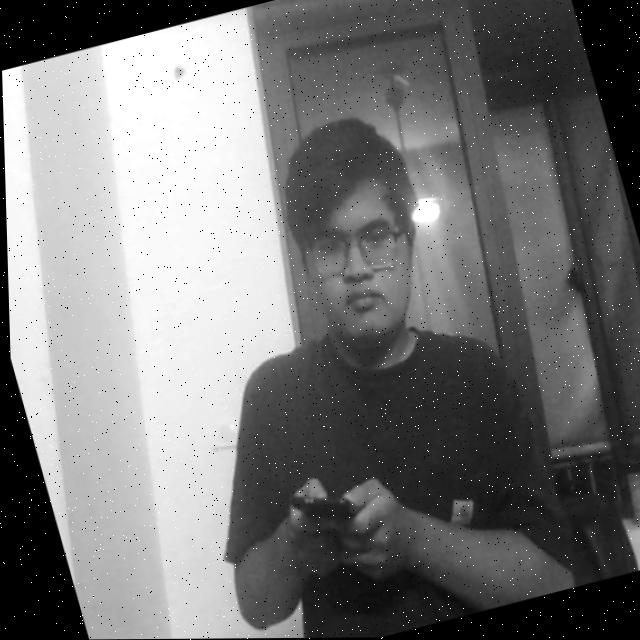phone: (266, 453, 397, 571)
